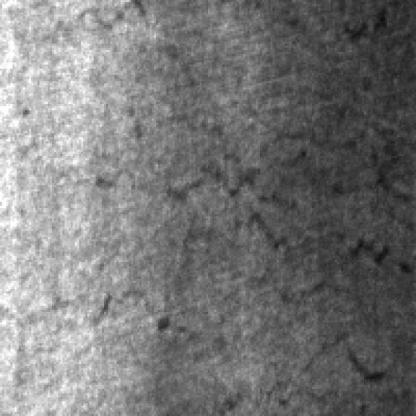crazing: (160, 98, 406, 293), (73, 280, 391, 402)
